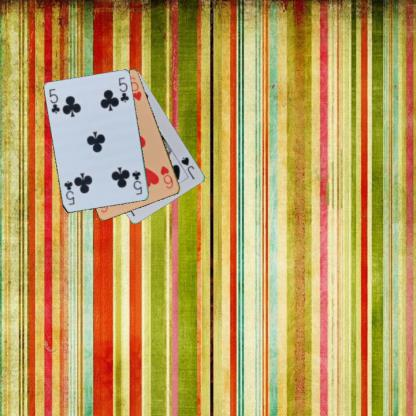5c: (47, 86, 61, 115), (130, 168, 144, 196)
6h: (158, 163, 174, 190)
Js: (178, 154, 196, 181)
